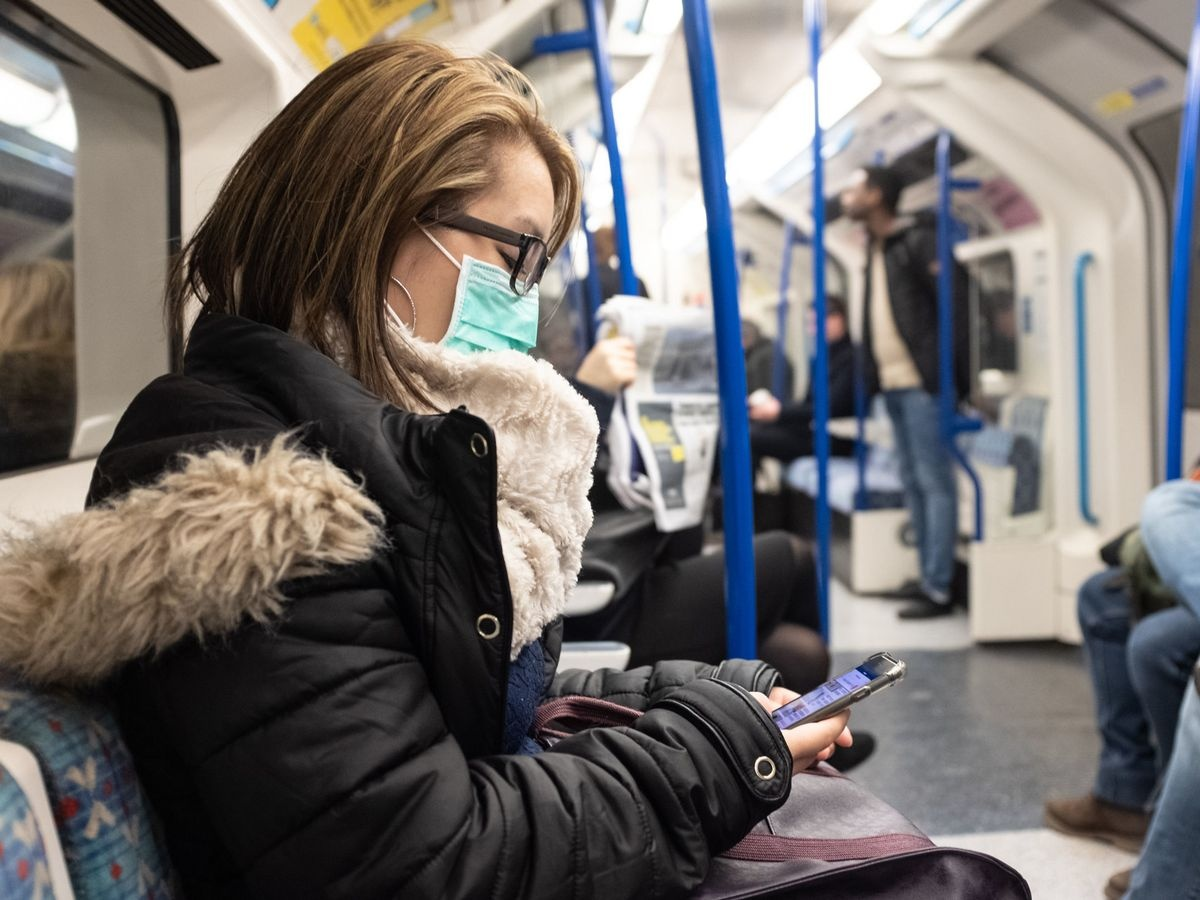with_mask: (305, 118, 580, 389)
